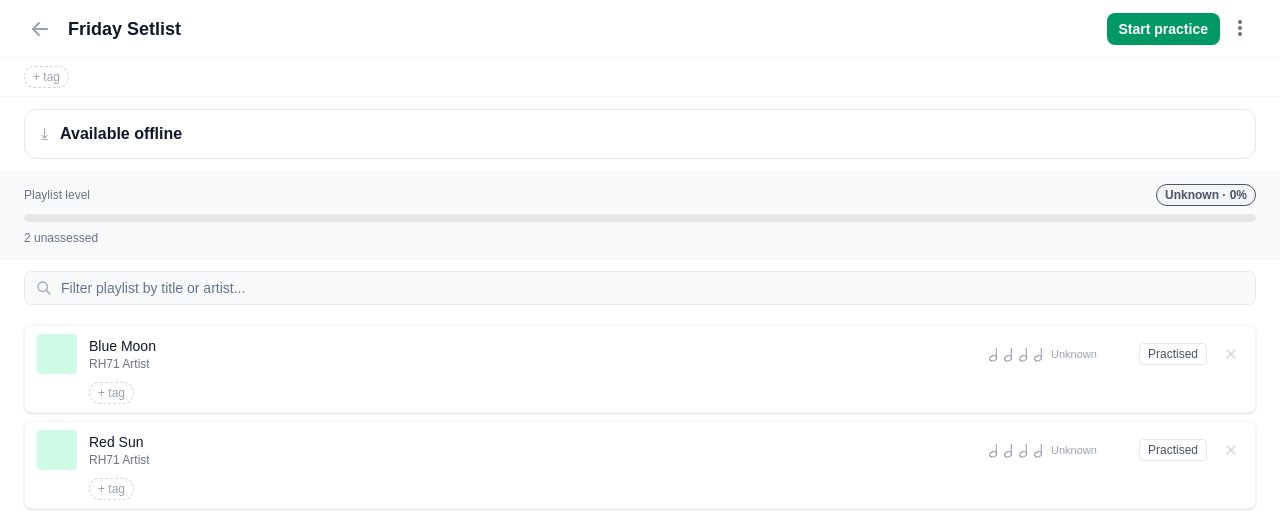
Scenario: PlaylistDetailView (RH-71) › filters the song list by the in-playlist text filter
Type "Blue" into the field with placeholder "Filter playlist by title or artist..." at coordinates (640, 288), box [24,271,1256,305]
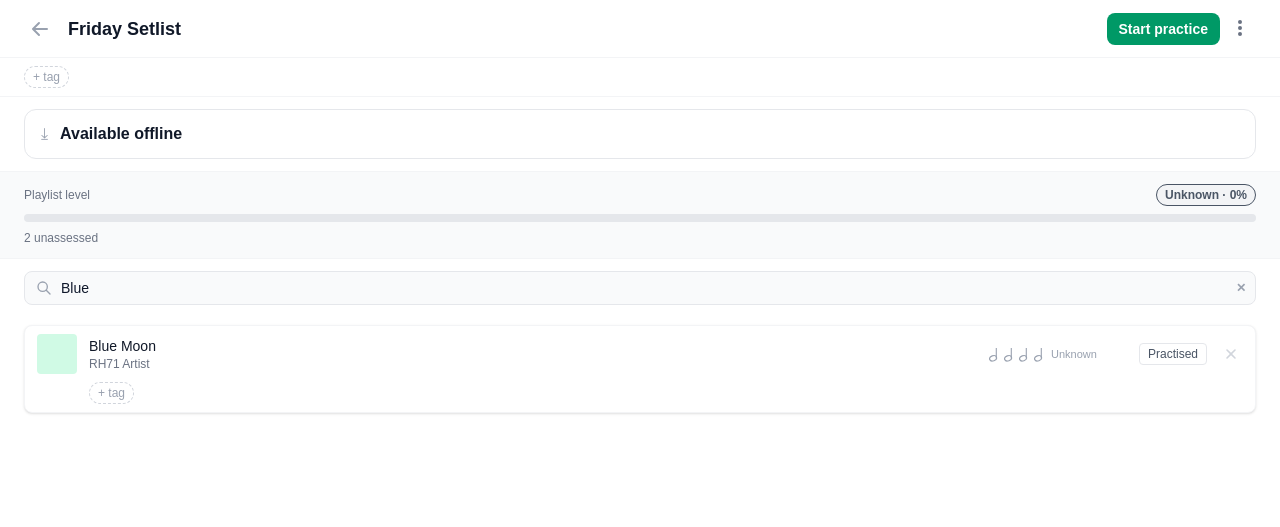
Check: the text "Blue Moon" is shown, box [89,338,156,354]
Check: the link "Red Sun" is gone
